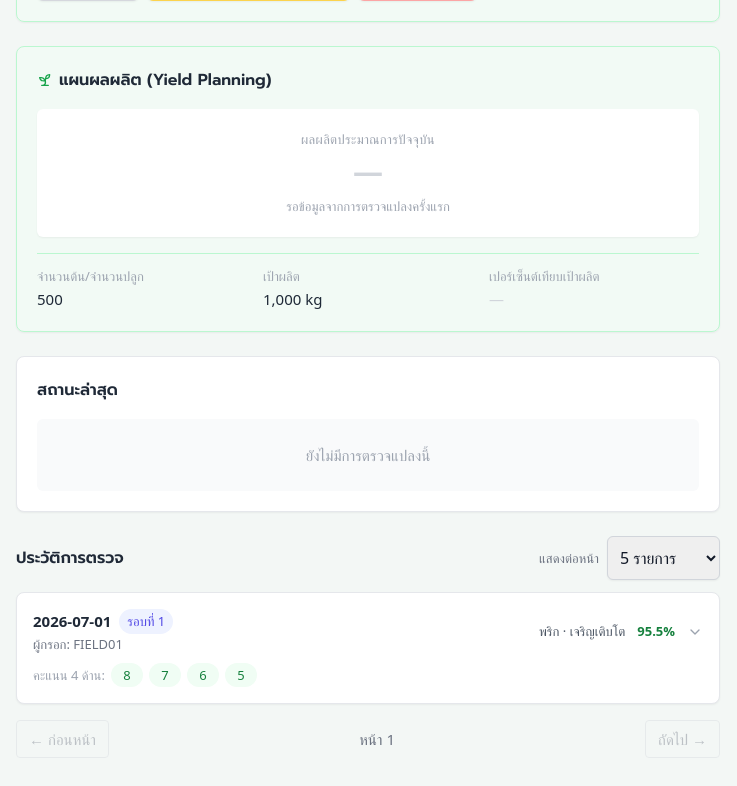
Test: PlotDetail — protocol snapshot labels (round 5.3) › expanded history row renders score labels from the record snapshot
(page scrolled)
Expected: the text "คะแนน 4 ด้าน:" is shown, [33,665,105,685]
Expected: the text "ความเสี่ยง" is not shown
Click the text "2026-07-01" at (72, 621), box [33,609,111,633]
(page scrolled)
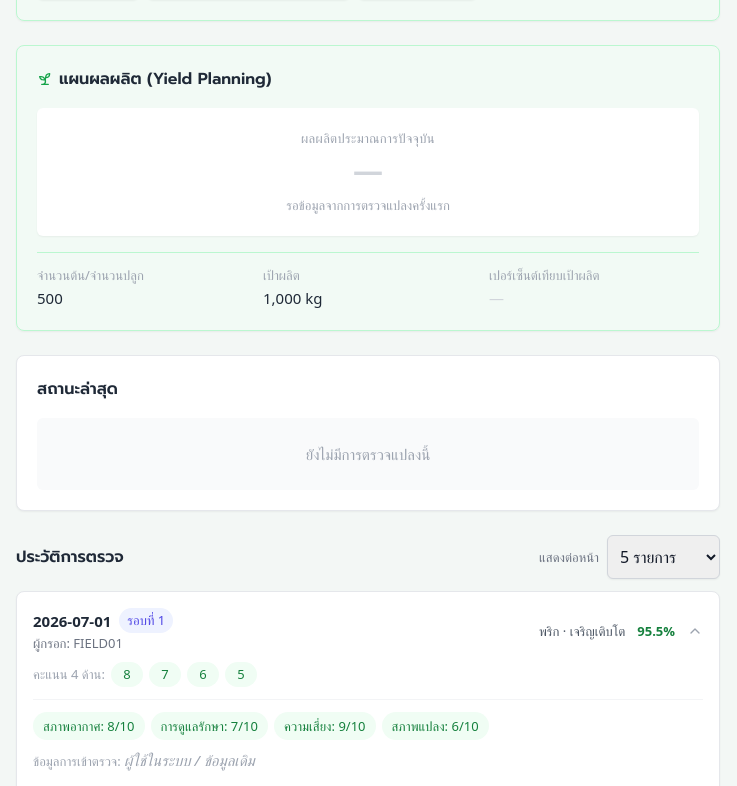
Now the text "ความเสี่ยง: 9/10" is shown, box [274,712,376,740]
Now the text "สภาพแปลง: 6/10" is shown, box [382,712,489,740]
